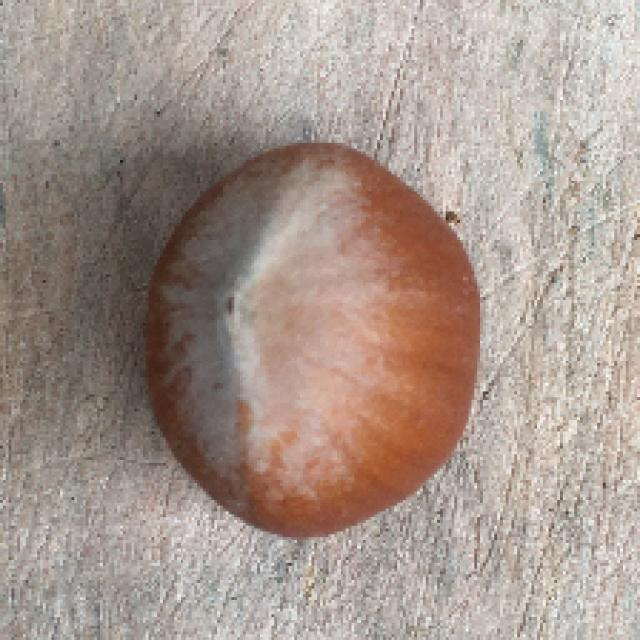qualityHazelnut: (147, 130, 481, 568)
